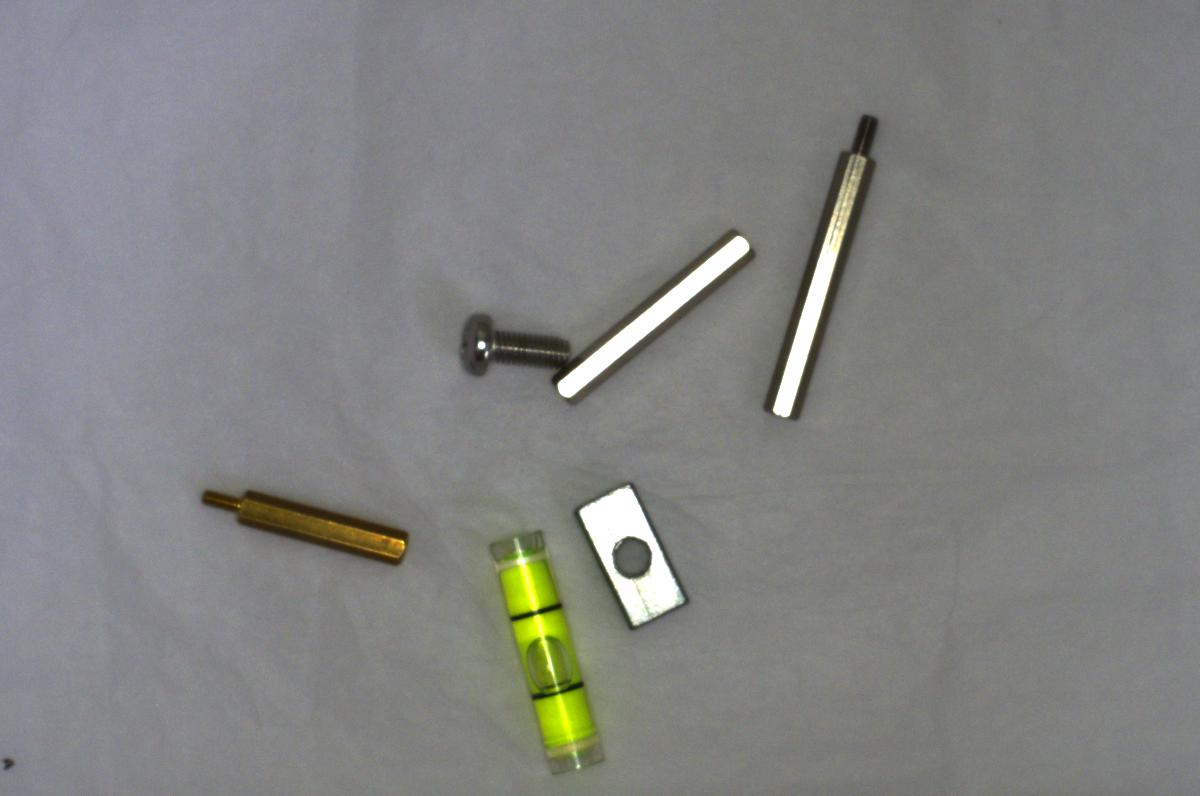Double hexagonal column: (554, 229, 757, 413)
Hexagon pillar: (192, 481, 419, 574)
Hexagonal steel column: (747, 113, 887, 421)
Horizontal bubble: (477, 520, 606, 776)
Rectangular nut: (577, 476, 693, 629)
Round head screw: (448, 301, 574, 388)
